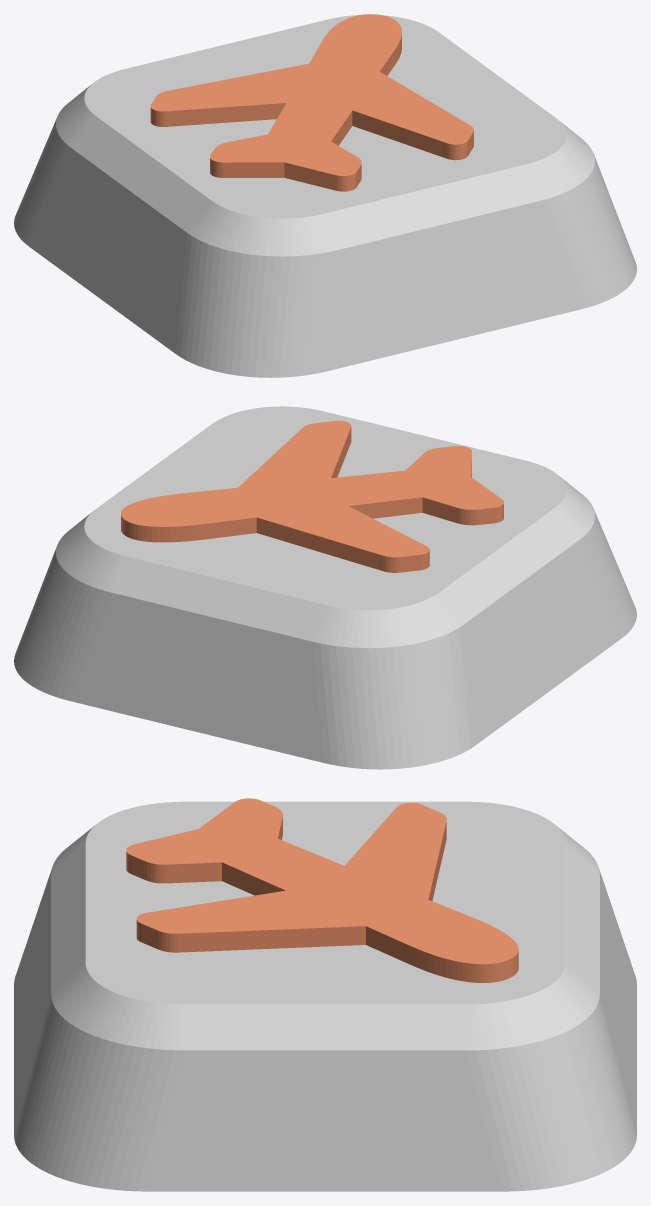
The model's file is cap-airplane.glb.
3 views of the same model, one above another, from view 1: azimuth 30°, elevation 25°; view 2: azimuth 150°, elevation 25°; view 3: azimuth 270°, elevation 25° (orthographic). The views are drawn at different scales.
Parts seen in each view (by area): view 1: cap_0, glyph_1; view 2: cap_0, glyph_1; view 3: cap_0, glyph_1.
Part boxes in pixels (bbox=[...]): cap_0: bbox=[14, 15, 636, 377]; glyph_1: bbox=[150, 14, 473, 191]; cap_0: bbox=[14, 406, 636, 769]; glyph_1: bbox=[121, 420, 503, 572]; cap_0: bbox=[14, 801, 636, 1191]; glyph_1: bbox=[126, 798, 518, 982].
Bounding box in the file's own units: 18 × 5.6 × 18.
